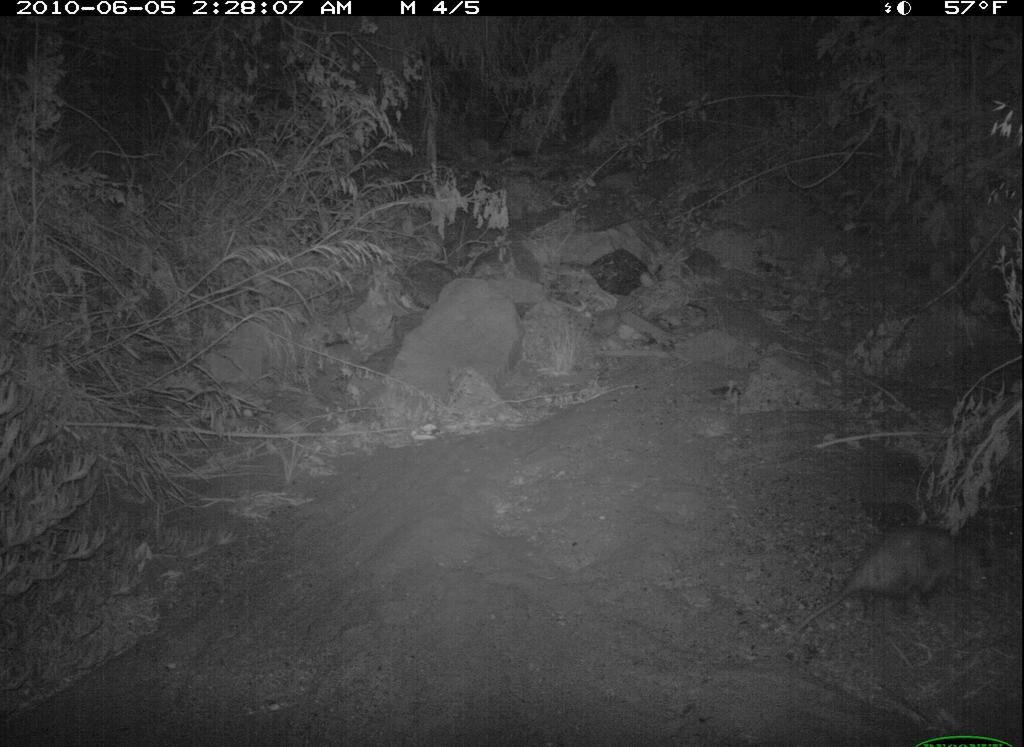opossum: (775, 512, 1003, 649)
